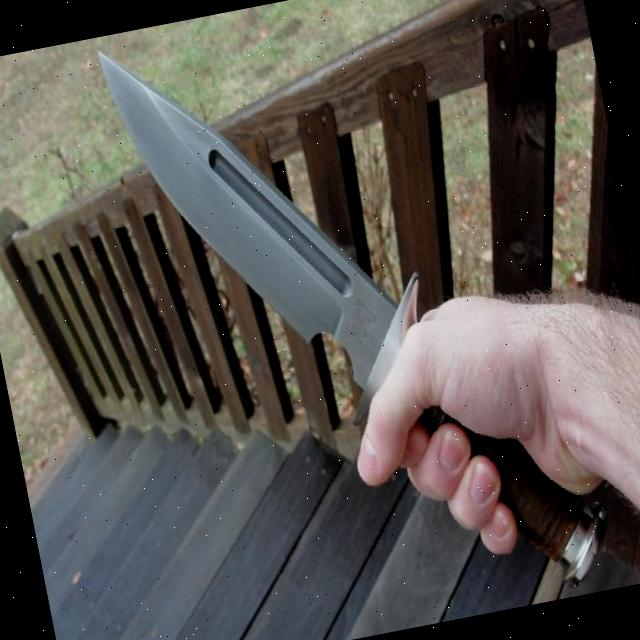suspicion: (89, 0, 640, 640), (96, 0, 623, 640)
